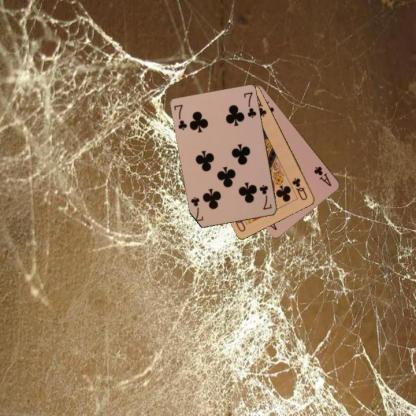7c: (172, 102, 188, 132), (257, 182, 273, 211)
Ac: (311, 163, 333, 188)
Qc: (290, 176, 308, 202)
